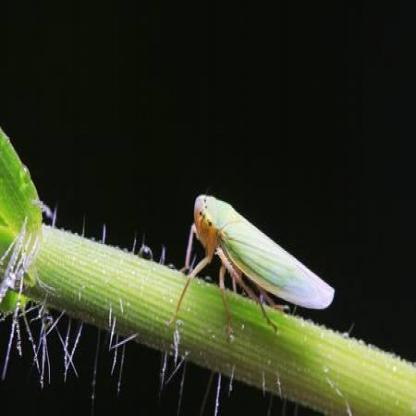Green-Leafhopper: (171, 186, 339, 334)
